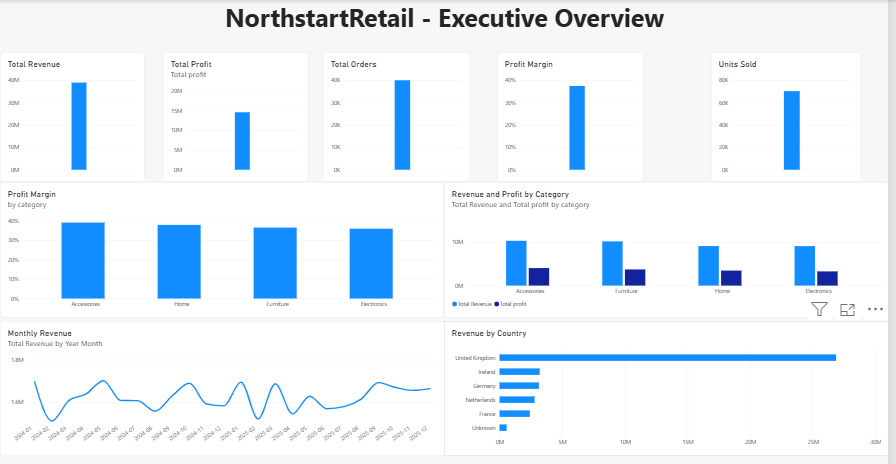

What the dashboard file says about the page in this screenshot:
{"tool":"powerbi","page":{"name":"Page 1","canvas":[1920,1080],"ordinal":0},"visuals":[{"type":"clusteredColumnChart","fields":{"Y":["vw_RetailSales.Total Revenue"]},"box":[0,112.3,312.1,280.3],"z":0},{"type":"clusteredColumnChart","title":"Total Profit","fields":{"Y":["vw_RetailSales.Total profit"]},"box":[352.1,112.3,313.6,280.3],"z":1000},{"type":"clusteredColumnChart","fields":{"Y":["vw_RetailSales.Total Orders"]},"box":[697.7,112.3,318.2,280.3],"z":2000},{"type":"clusteredColumnChart","fields":{"Y":["vw_RetailSales.Units Sold"]},"box":[1535.8,112.3,324.2,280.3],"z":3000},{"type":"clusteredColumnChart","fields":{"Y":["vw_RetailSales.Profit Margin"]},"box":[1073.5,112.3,318.2,280.3],"z":4000},{"type":"lineChart","title":"Monthly Revenue","fields":{"Category":["DateTable.Year Month"],"Y":["vw_RetailSales.Total Revenue"]},"box":[0,693.4,960.6,292.4],"z":5000},{"type":"clusteredColumnChart","title":"Revenue and Profit by Category","fields":{"Category":["vw_RetailSales.category"],"Y":["vw_RetailSales.Total Revenue","vw_RetailSales.Total profit"]},"box":[959,393.1,961.2,293.8],"z":6000},{"type":"clusteredColumnChart","fields":{"Category":["vw_RetailSales.category"],"Y":["vw_RetailSales.Profit Margin"]},"box":[0,393.1,959,293.8],"z":7000},{"type":"barChart","title":"Revenue by Country","fields":{"Category":["vw_RetailSales.country"],"Y":["vw_RetailSales.Total Revenue"]},"box":[959,693.4,961.2,291.6],"z":7001},{"type":"textbox","box":[100,100,300,300],"z":7002},{"type":"textbox","box":[0,0,1920.2,112.3],"z":7003}]}

Visuals, with their boxes on the page's 1920x1080 design canvas (x1, y1, x2, y2). These are canvas units, not pixel positions in the 896x464 screenshot, which may show the page scaled, cropped or inside an application window:
clusteredColumnChart - vw_RetailSales.Total Revenue: bbox=[0, 112, 312, 393]
"Total Profit" clusteredColumnChart: bbox=[352, 112, 666, 393]
clusteredColumnChart - vw_RetailSales.Total Orders: bbox=[698, 112, 1016, 393]
clusteredColumnChart - vw_RetailSales.Units Sold: bbox=[1536, 112, 1860, 393]
clusteredColumnChart - vw_RetailSales.Profit Margin: bbox=[1074, 112, 1392, 393]
"Monthly Revenue" lineChart: bbox=[0, 693, 961, 986]
"Revenue and Profit by Category" clusteredColumnChart: bbox=[959, 393, 1920, 687]
clusteredColumnChart - vw_RetailSales.category x vw_RetailSales.Profit Margin: bbox=[0, 393, 959, 687]
"Revenue by Country" barChart: bbox=[959, 693, 1920, 985]
textbox: bbox=[100, 100, 400, 400]
textbox: bbox=[0, 0, 1920, 112]
